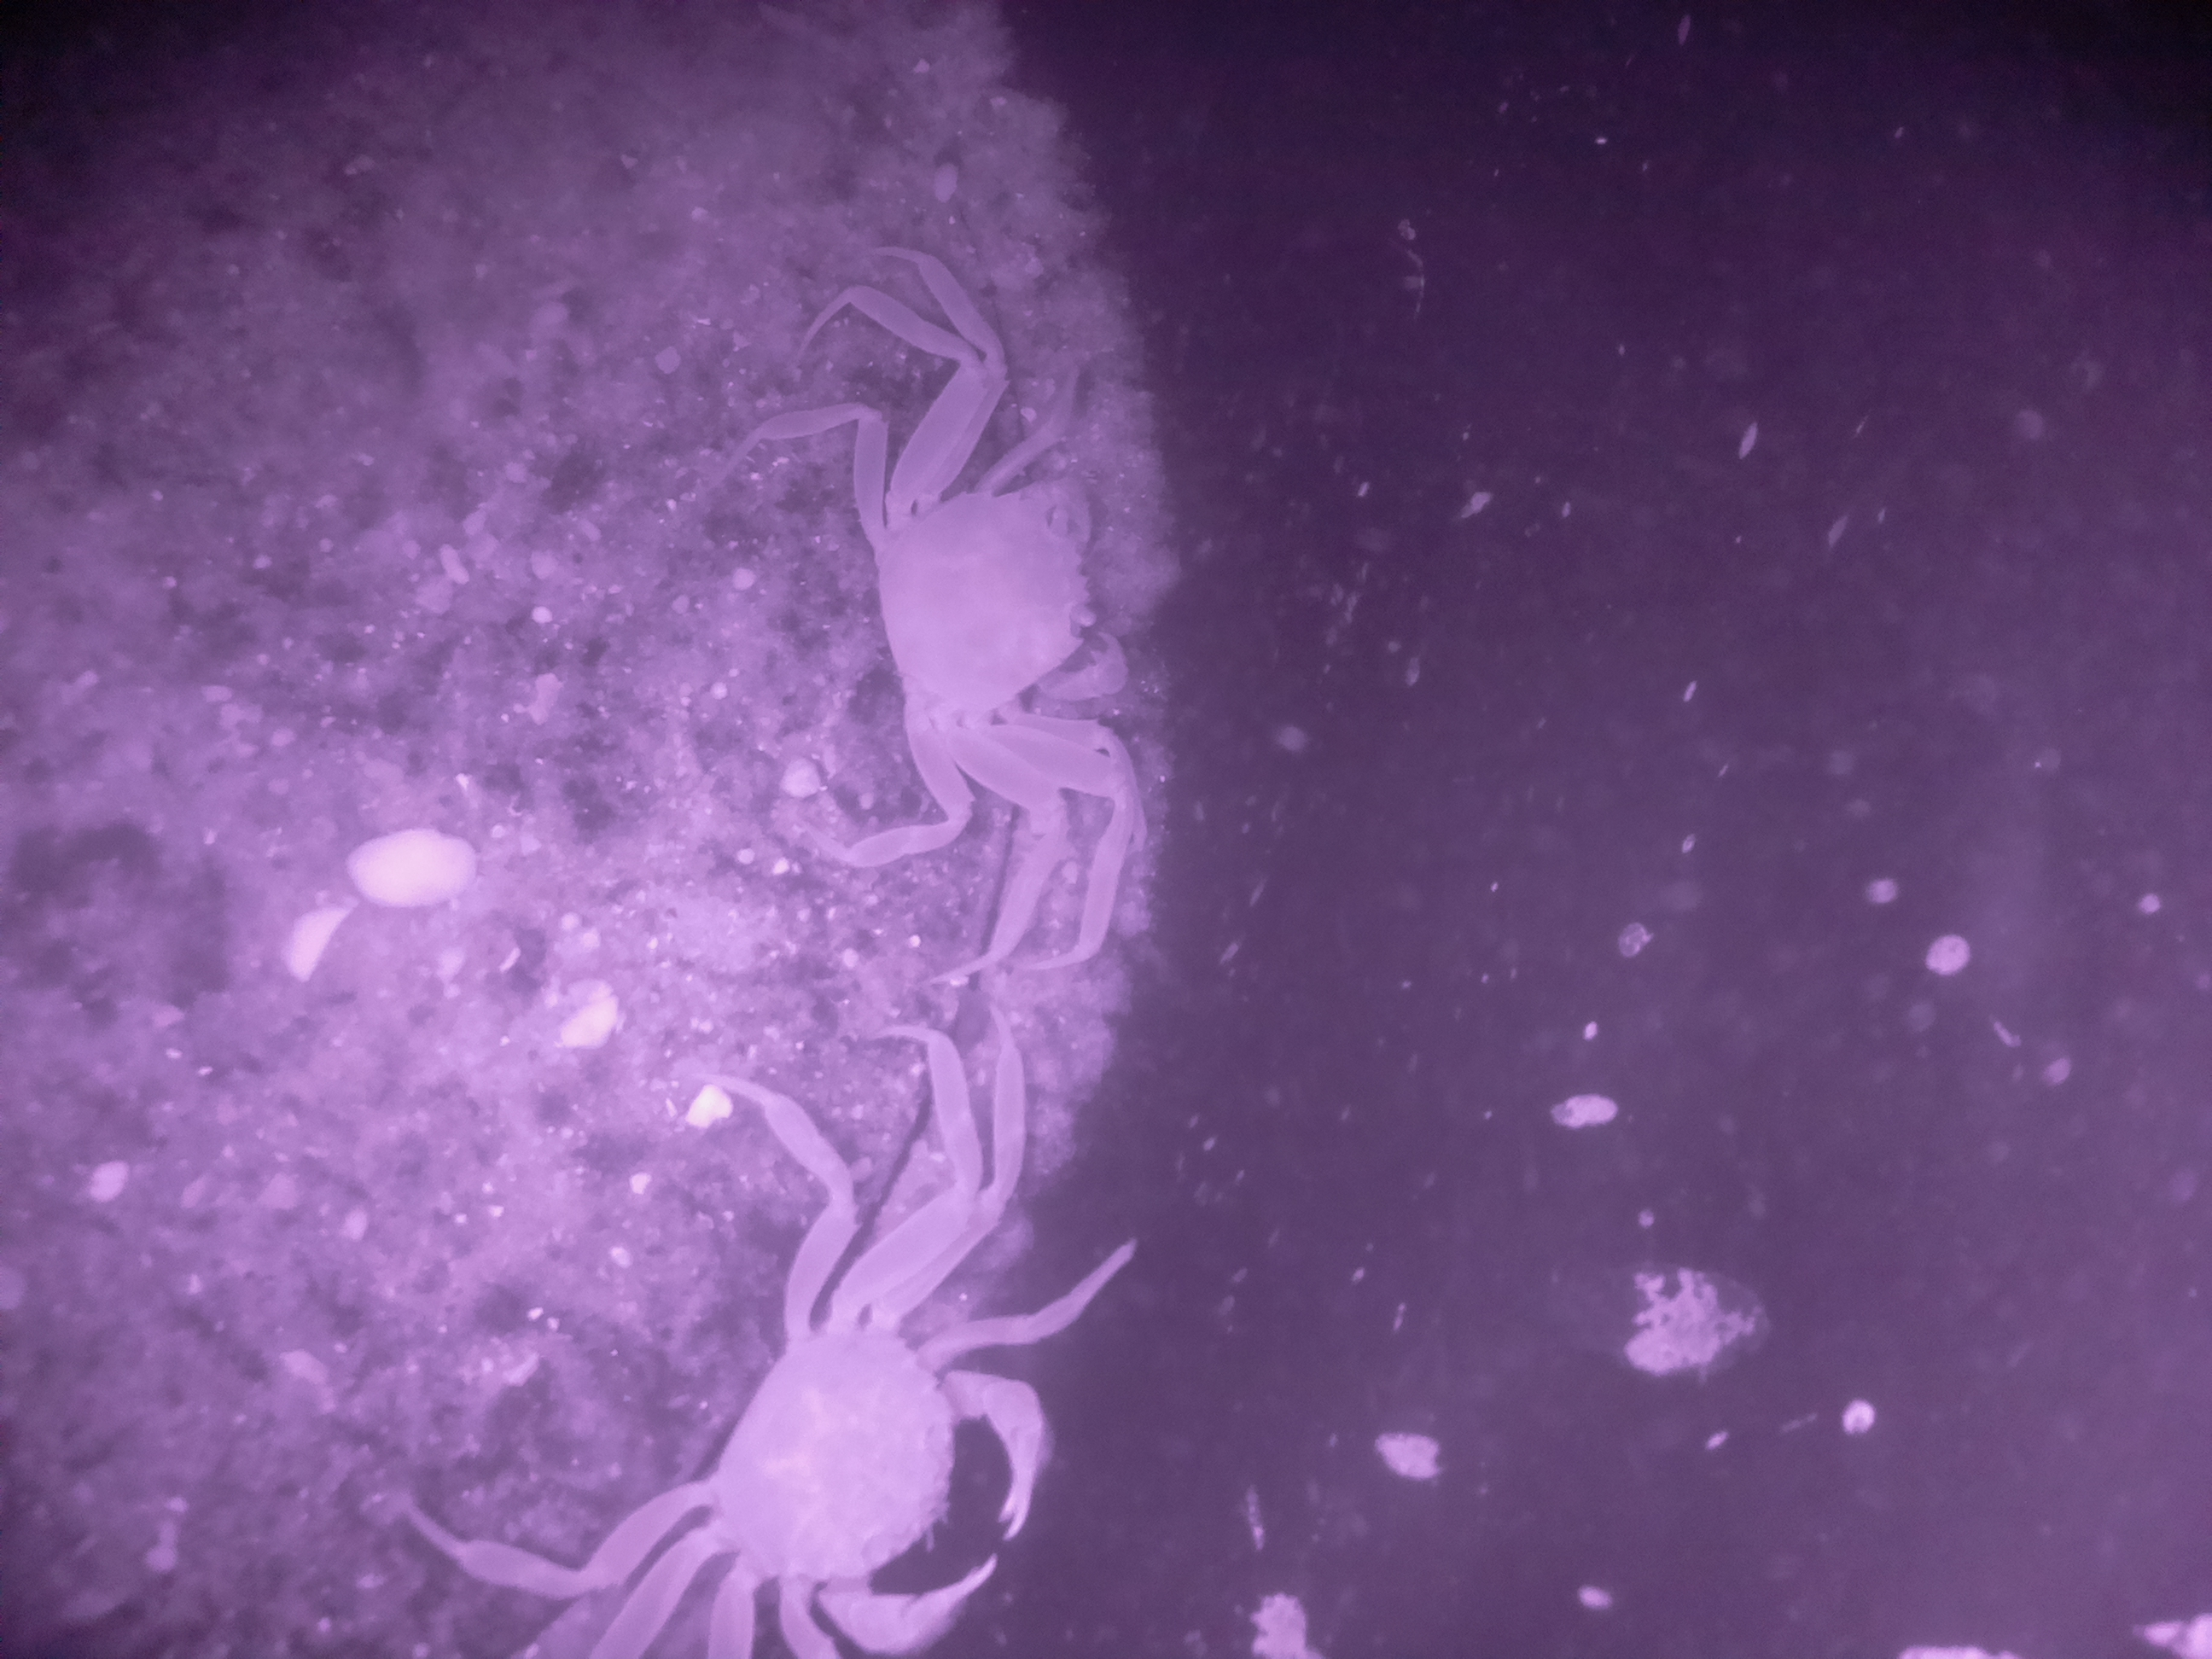Crab: (637, 1182, 1082, 1659), (770, 357, 1177, 840)
